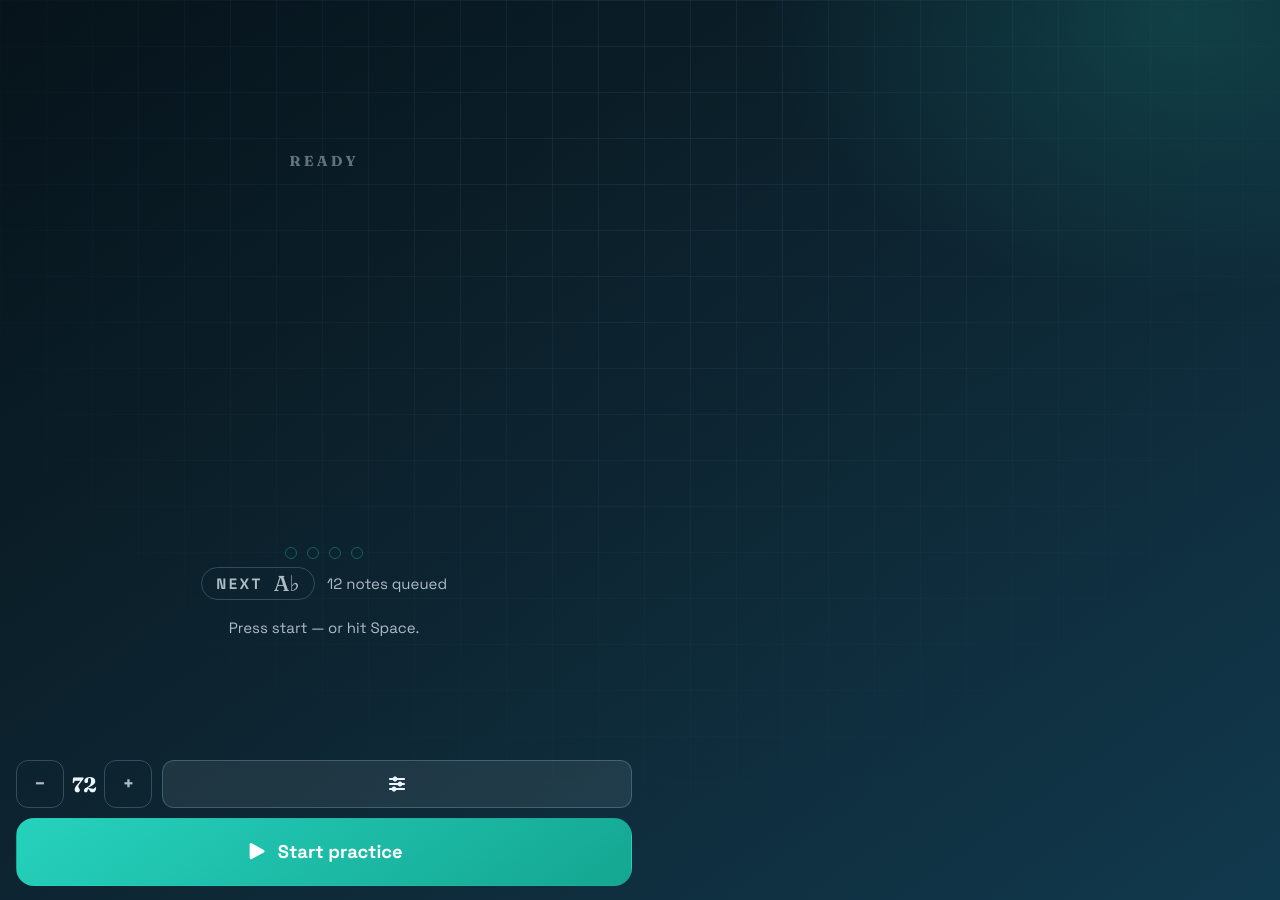
it: the stand reading › brings tempo, notes, options and routine back on demand
Click the button with test id "open-setup".
click(397, 784)  # box [162,760,632,808]
(page scrolled)
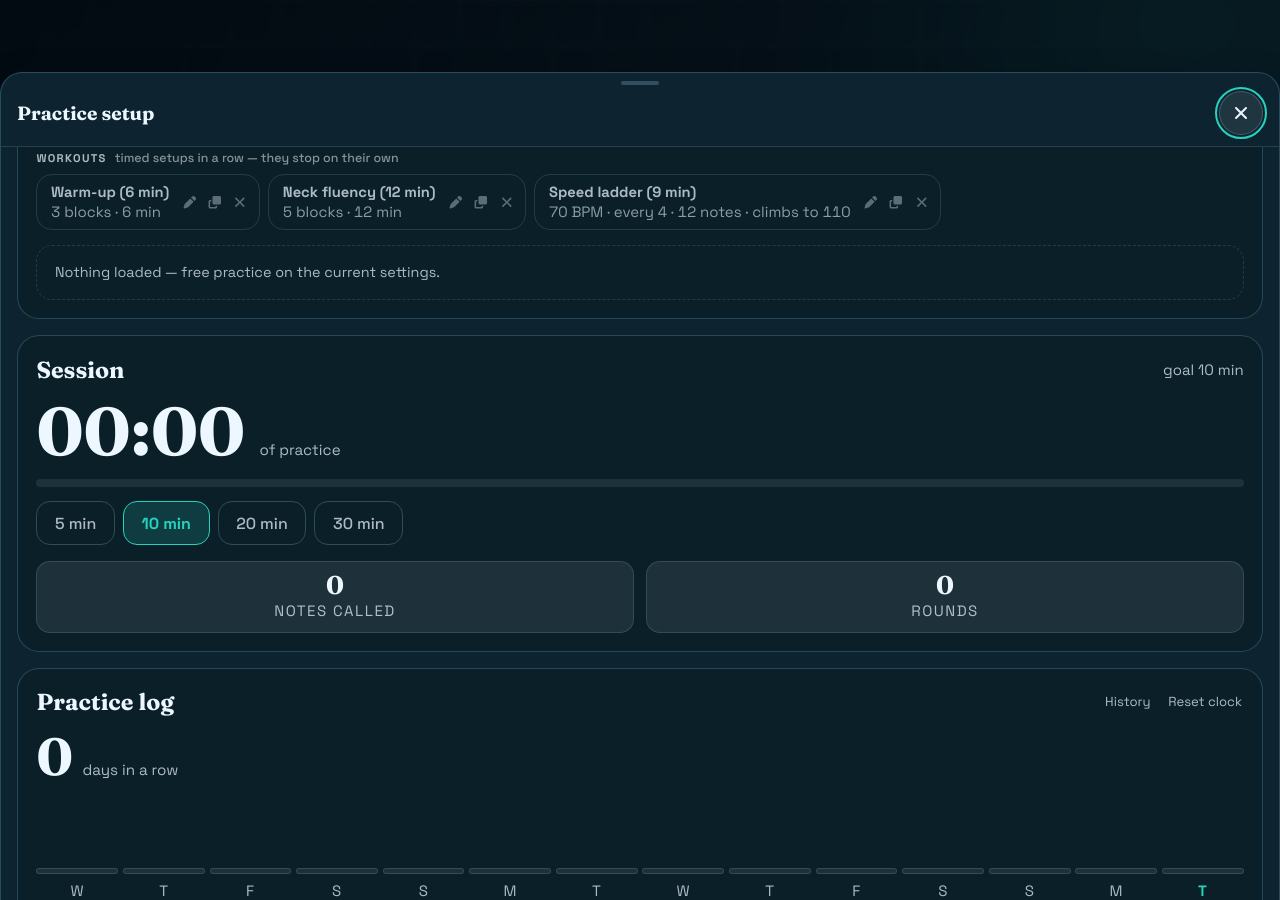
Expected: the element with test id "practice-sheet" is shown
Expected: the element with test id "session-goal" is shown, [36,501,403,545]
